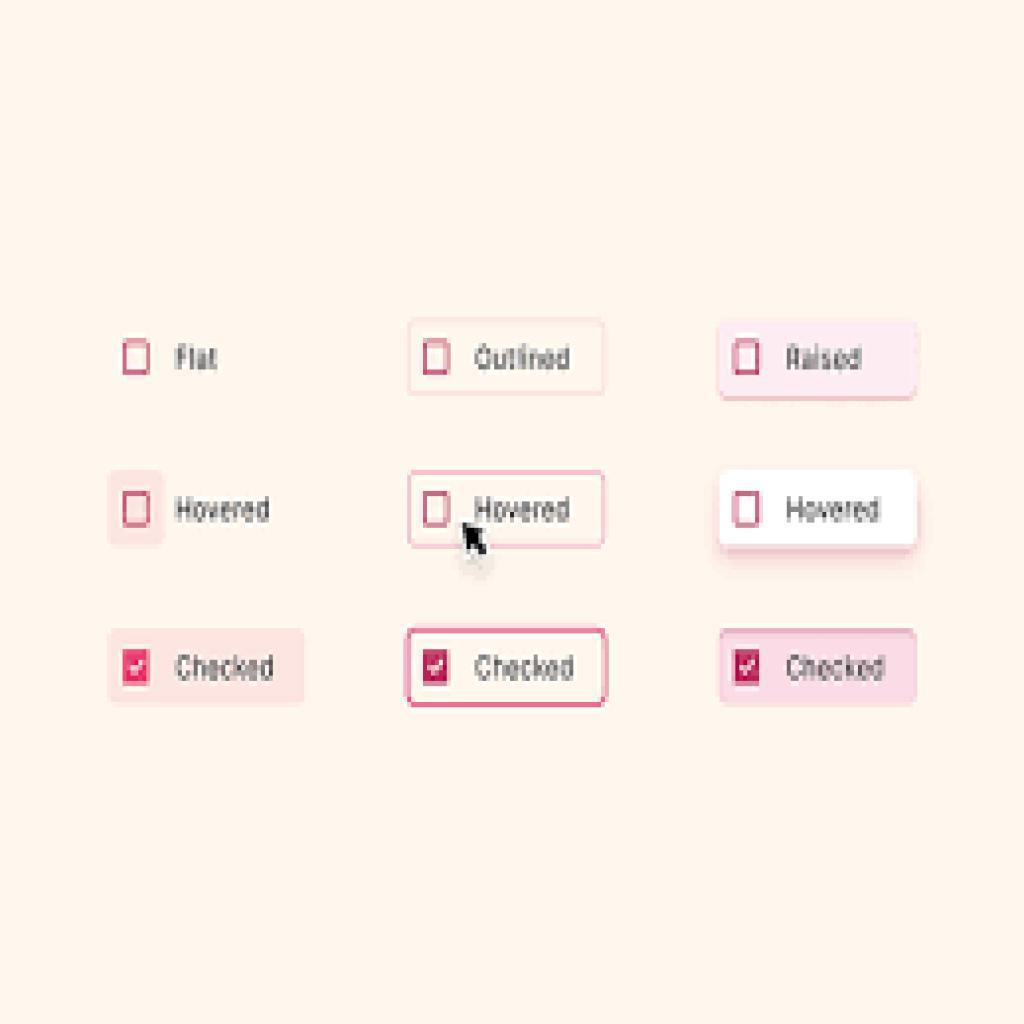checkbox: (121, 490, 155, 530), (122, 648, 155, 689), (422, 339, 453, 379), (123, 339, 152, 377), (423, 648, 452, 686), (423, 493, 453, 529), (732, 649, 761, 686), (734, 490, 762, 528), (733, 340, 761, 376)
label: (471, 651, 585, 692), (787, 652, 895, 694), (177, 652, 282, 694), (778, 492, 888, 531), (470, 495, 578, 531), (780, 338, 871, 380), (174, 492, 273, 530), (471, 340, 575, 375), (174, 341, 221, 376)
